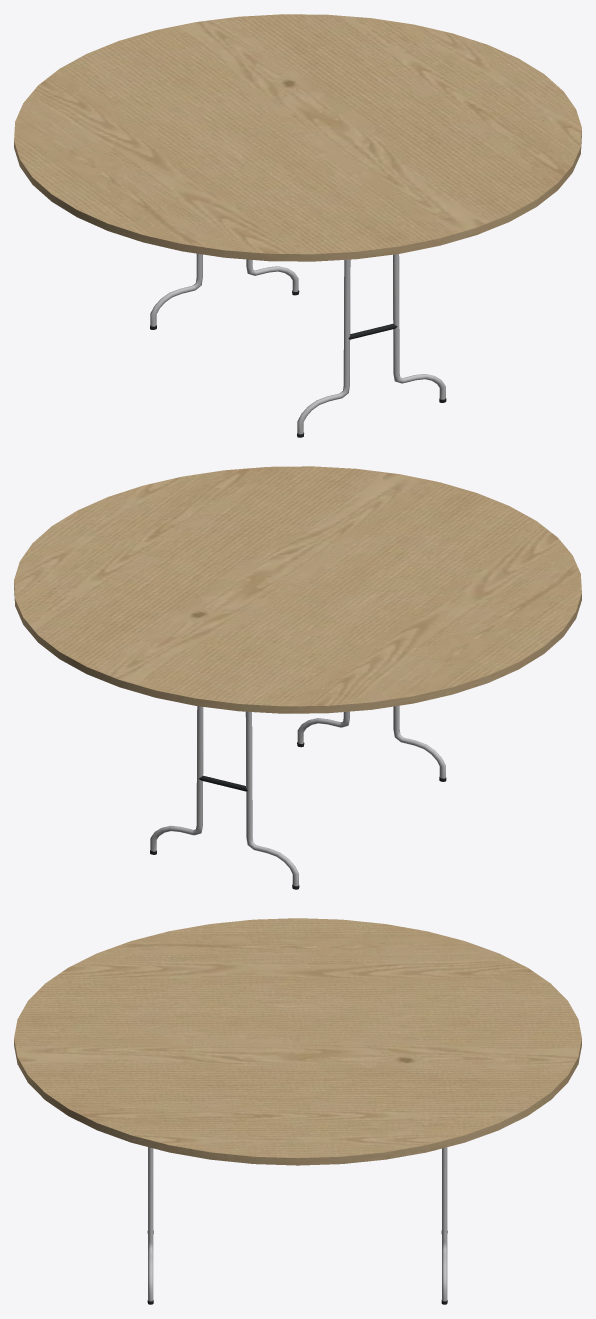
Rendered from TavoloTondo.glb.
The picture shows the model from 3 angles, top to bottom: view 1: azimuth 30°, elevation 25°; view 2: azimuth 150°, elevation 25°; view 3: azimuth 270°, elevation 25°; orthographic projection.
Visible parts, largest first — view 1: Tavolo_Tondo; view 2: Tavolo_Tondo; view 3: Tavolo_Tondo.
Part boxes in pixels (bbox=[...]): Tavolo_Tondo: bbox=[14, 14, 581, 437]; Tavolo_Tondo: bbox=[14, 466, 581, 889]; Tavolo_Tondo: bbox=[14, 918, 581, 1304].
Bounding box in the file's own units: 24.51 × 10.98 × 24.51.
Materials: 4 (3 with a texture image).
